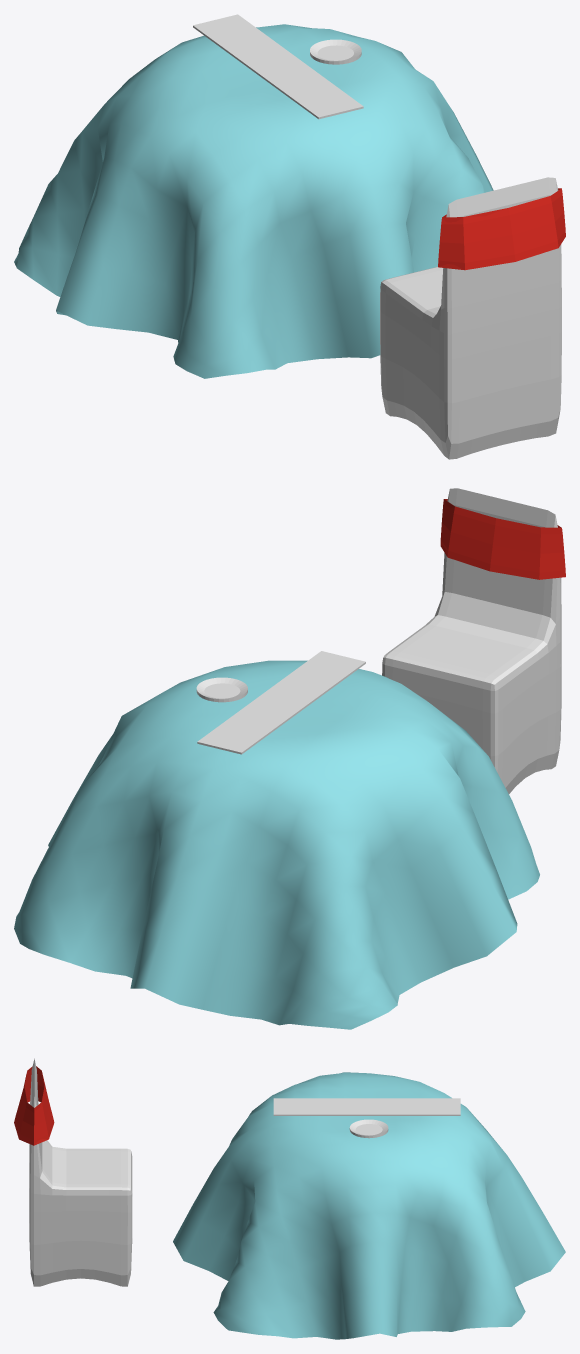
Rendered from PFScene4.gltf.
3 views of the same model, one above another, from view 1: azimuth 30°, elevation 25°; view 2: azimuth 150°, elevation 25°; view 3: azimuth 270°, elevation 25° (orthographic). The views are drawn at different scales.
Visible parts, largest first — view 1: TableCloth, Chair.001, ChairRunner, TableRunner, Plate; view 2: TableCloth, Chair.001, ChairRunner, TableRunner, Plate; view 3: TableCloth, Chair.001, TableRunner, ChairRunner, Plate.
Boxes of the visible parts, <box> form: TableCloth: <box>14,24,493,378</box>; Chair.001: <box>380,177,561,459</box>; ChairRunner: <box>438,188,565,270</box>; TableRunner: <box>193,14,363,119</box>; Plate: <box>310,39,361,64</box>; TableCloth: <box>14,660,539,1029</box>; Chair.001: <box>382,488,561,793</box>; ChairRunner: <box>440,499,565,579</box>; TableRunner: <box>197,651,365,754</box>; Plate: <box>196,677,247,702</box>; TableCloth: <box>173,1072,565,1339</box>; Chair.001: <box>29,1058,132,1286</box>; TableRunner: <box>273,1098,460,1115</box>; ChairRunner: <box>14,1066,54,1145</box>; Plate: <box>349,1119,388,1138</box>.
Bounding box in the file's own units: 152 × 90.11 × 214.
